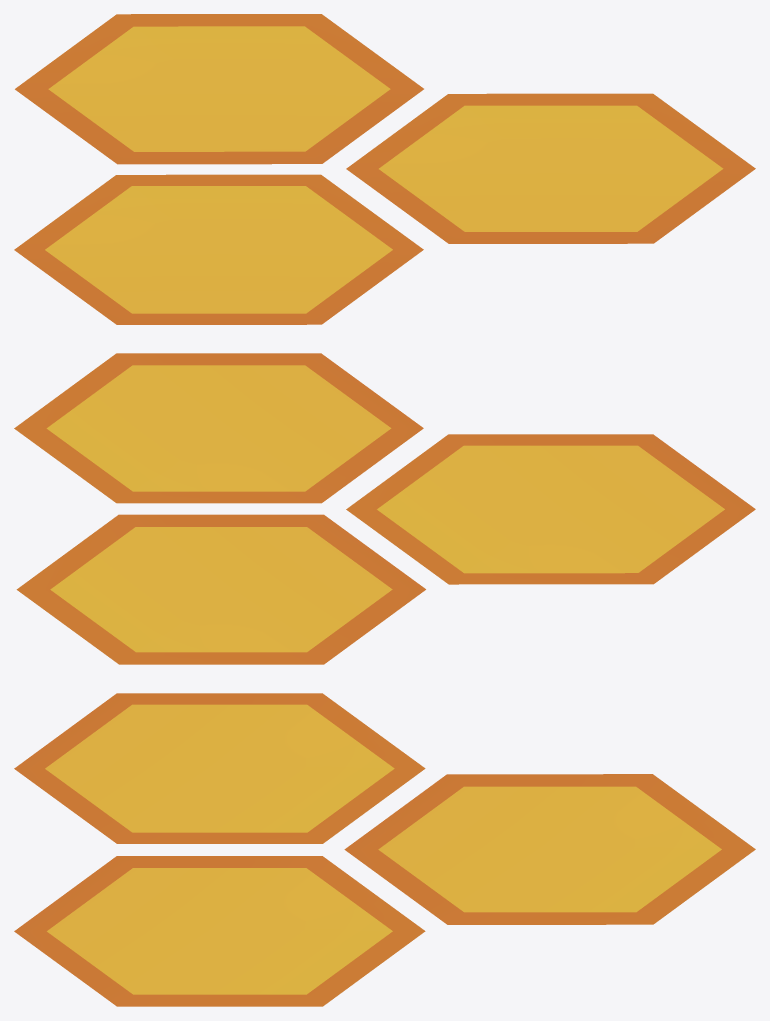
Rendered from top_honey.fbx.
The picture shows the model from 3 angles, top to bottom: view 1: azimuth 30°, elevation 25°; view 2: azimuth 150°, elevation 25°; view 3: azimuth 270°, elevation 25°; orthographic projection.
Parts seen in each view (by area): view 1: top_honey; view 2: top_honey; view 3: top_honey.
Boxes of the visible parts, box(x1,y1,x2,y2) form: top_honey: box(14, 14, 755, 324); top_honey: box(14, 353, 755, 664); top_honey: box(14, 693, 755, 1006).
Size of the model in its own units: 4.03 by 0 by 4.03.
